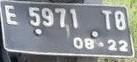clone-license-plate: (0, 0, 134, 57)
